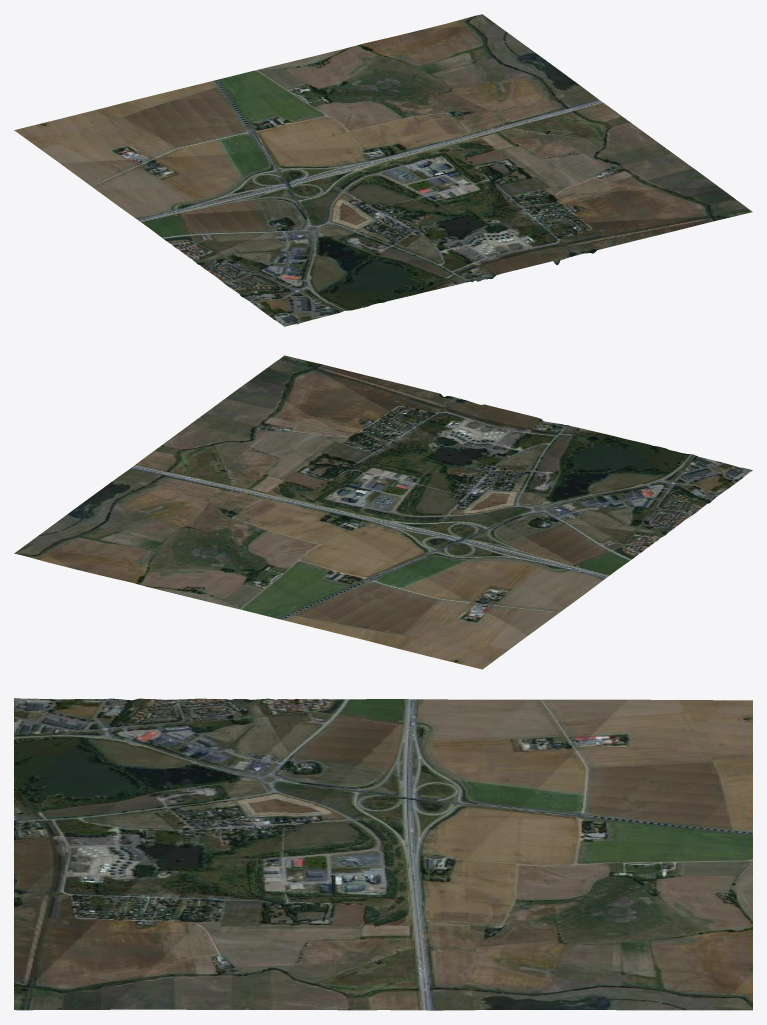
Rendered from map_10_255_428.dae.
3 views of the same model, one above another, from view 1: azimuth 30°, elevation 25°; view 2: azimuth 150°, elevation 25°; view 3: azimuth 270°, elevation 25° (orthographic). The views are drawn at different scales.
Parts seen in each view (by area): view 1: Ter0; view 2: Ter0; view 3: Ter0.
Part boxes in pixels (x1=…): Ter0: x1=14, y1=14, x2=752, y2=326; Ter0: x1=14, y1=355, x2=752, y2=669; Ter0: x1=14, y1=698, x2=752, y2=1010.
Size of the model in its own units: 2044 by 2044 by 26.6.
Materials: 3 (3 with a texture image).
